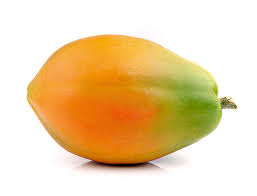papaya: (26, 34, 238, 167)
